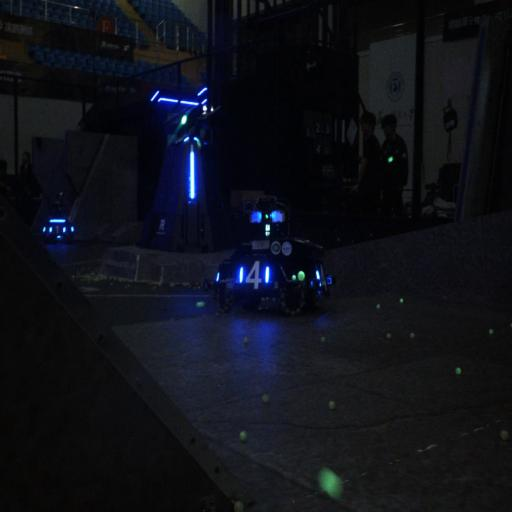target: (235, 257, 276, 292), (308, 263, 334, 301), (49, 222, 66, 238)
